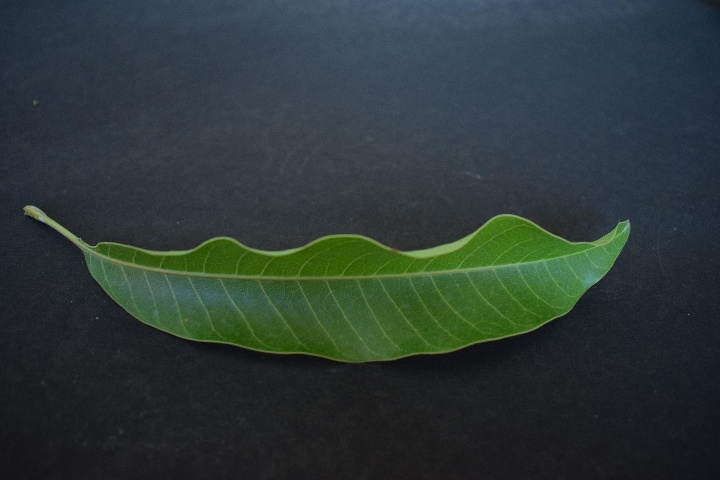healthy: (84, 206, 635, 367)
